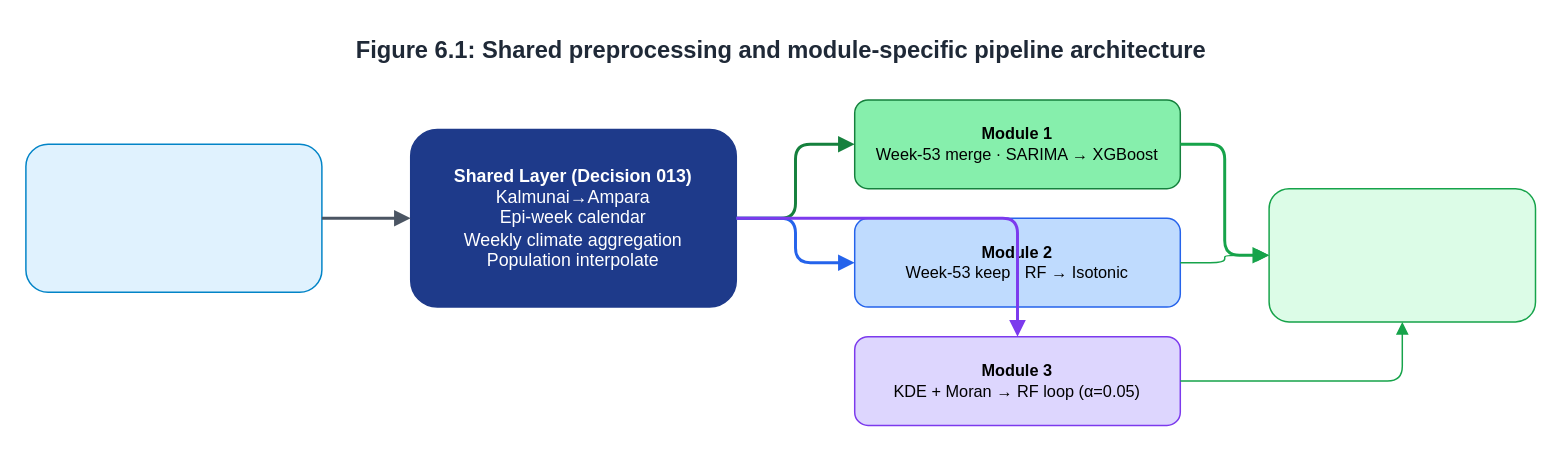
Image size: 1561x451. Some labels were removed from this diagram. The centre of each missing label's shape, as x and y in pixels:
Outputs features / models / metrics Streamlit dashboard: (1402,254)
Raw Sources MoH WER cases Open-Meteo climate GADM L1 / Census / Elevation: (173,217)
